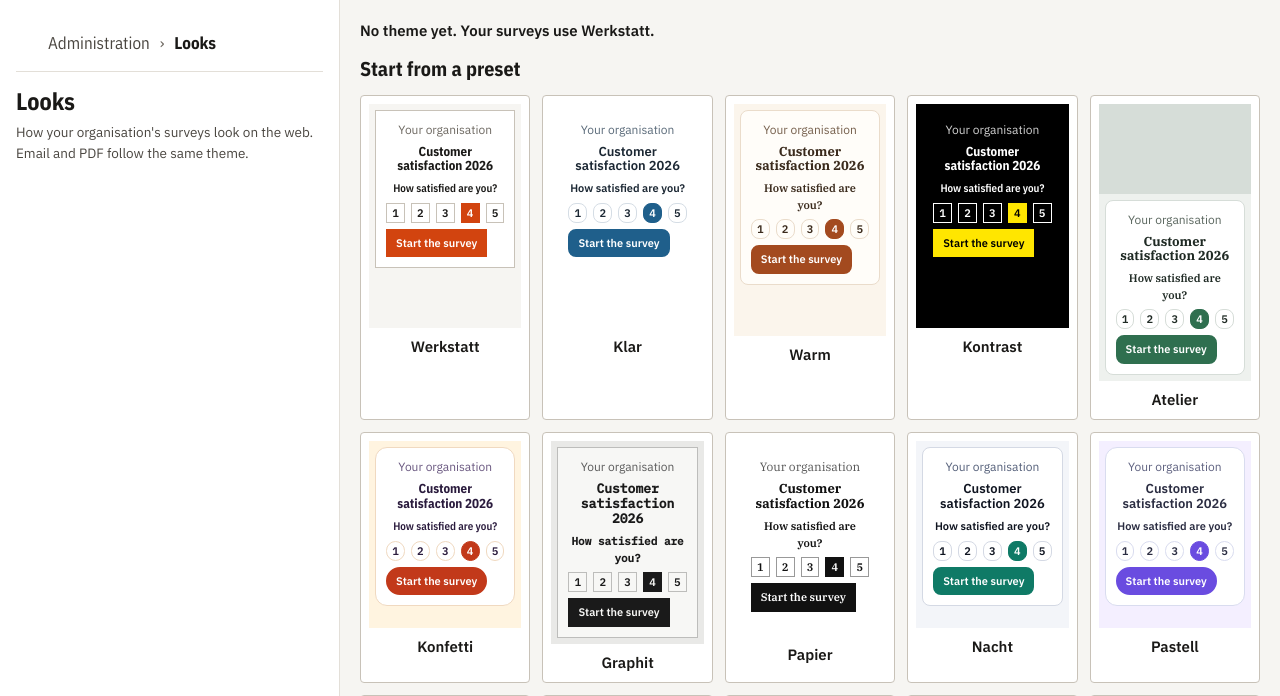
Scenario: Administration → Looks (AWK-17, W10 A, W32): stupid simple › starts an organisation without themes from a preset, which becomes the default
Check: the heading "Looks" is shown, box [16, 85, 75, 117]
Check: the text "No theme yet. Your surveys use Werkstatt." is shown, box [360, 21, 655, 40]
Click the button with aria-label "Start from Klar": (628, 257) [542, 94, 713, 420]
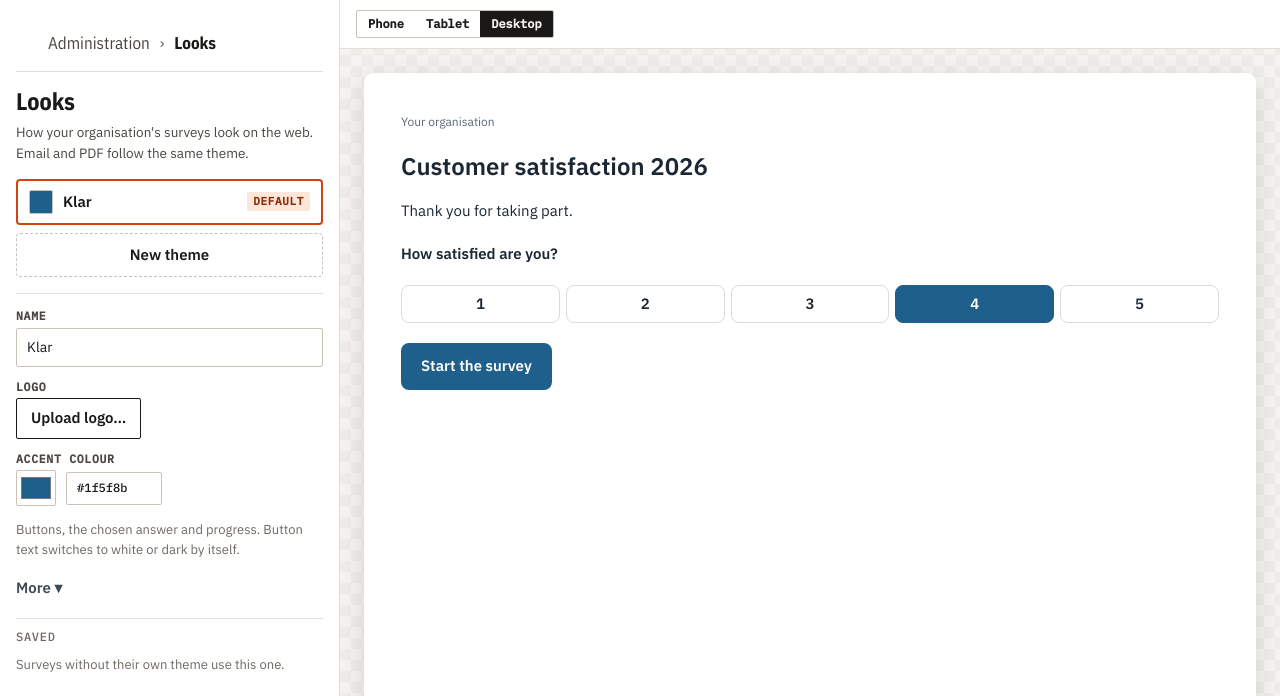
Check: the navigation bar named "Themes" is shown, box [16, 179, 323, 277]
Check: the button "Klar Default" is shown, box [16, 179, 323, 225]
Check: the field labelled "Name" holds "Klar", box [16, 328, 323, 367]
